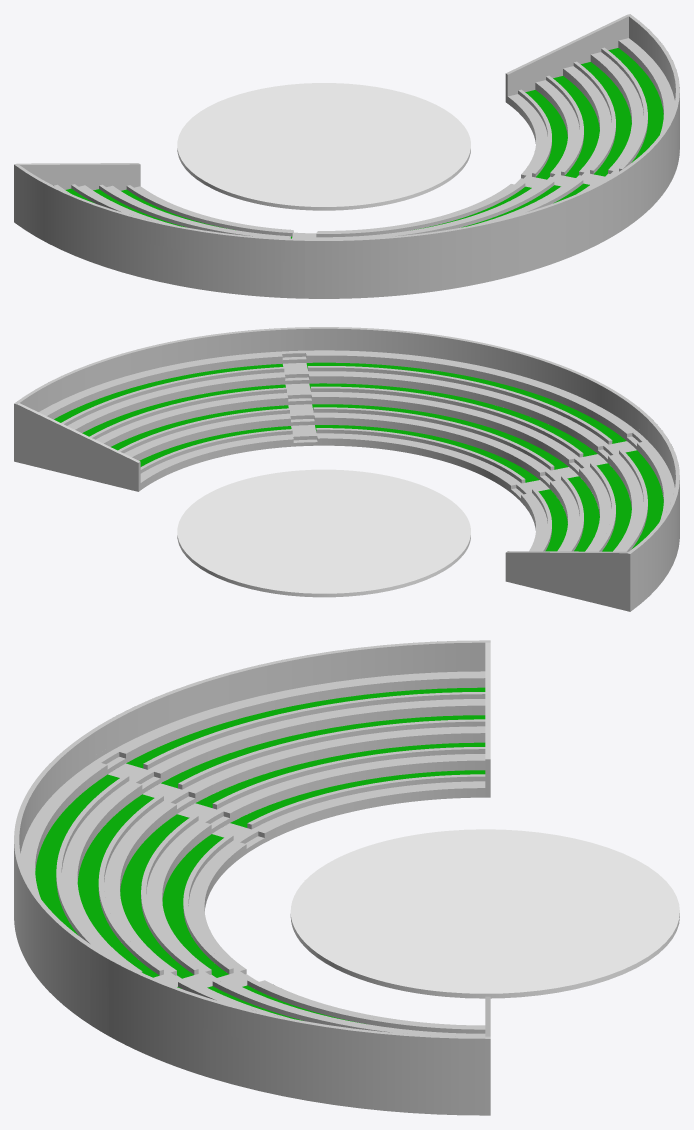
File: theater_centered.fbx
The picture shows the model from 3 angles, top to bottom: view 1: azimuth 30°, elevation 25°; view 2: azimuth 150°, elevation 25°; view 3: azimuth 270°, elevation 25°; orthographic projection. The views are drawn at different scales.
Visible parts, largest first — view 1: Object.8394, Object.8388, Object.8390, Object.8407, Object.8406, Object.8374, Object.8375, Object.8524, Object.8506, Object.8512, Object.8542, Object.8536 (+28 smaller); view 2: Object.8394, Object.8410, Object.8374, Object.8411, Object.8376, Object.8502, Object.8520, Object.8499, Object.8538, Object.8511, Object.8503, Object.8535 (+53 smaller); view 3: Object.8394, Object.8389, Object.8408, Object.8409, Object.8388, Object.8501, Object.8519, Object.8523, Object.8498, Object.8537, Object.8511, Object.8541 (+42 smaller).
Boxes of the visible parts, left/top/right/bottom form: Object.8394: left=177, top=83, right=470, bottom=210; Object.8388: left=305, top=181, right=641, bottom=298; Object.8390: left=16, top=188, right=281, bottom=297; Object.8407: left=305, top=159, right=641, bottom=262; Object.8406: left=16, top=166, right=281, bottom=261; Object.8374: left=505, top=15, right=628, bottom=103; Object.8375: left=20, top=164, right=140, bottom=190; Object.8524: left=581, top=62, right=631, bottom=176; Object.8506: left=608, top=48, right=663, bottom=162; Object.8512: left=591, top=52, right=643, bottom=171; Object.8542: left=553, top=76, right=599, bottom=177; Object.8536: left=563, top=66, right=611, bottom=173; Object.8394: left=177, top=469, right=470, bottom=597; Object.8410: left=305, top=328, right=637, bottom=431; Object.8374: left=17, top=403, right=140, bottom=491; Object.8411: left=20, top=329, right=281, bottom=411; Object.8376: left=505, top=551, right=628, bottom=610; Object.8502: left=306, top=355, right=626, bottom=440; Object.8520: left=309, top=376, right=597, bottom=453; Object.8499: left=305, top=350, right=637, bottom=433; Object.8538: left=312, top=397, right=568, bottom=466; Object.8511: left=308, top=371, right=608, bottom=446; Object.8503: left=47, top=356, right=282, bottom=419; Object.8535: left=311, top=392, right=579, bottom=459; Object.8394: left=290, top=829, right=679, bottom=998; Object.8389: left=108, top=988, right=485, bottom=1115; Object.8408: left=108, top=959, right=485, bottom=1067; Object.8409: left=113, top=642, right=485, bottom=749; Object.8388: left=14, top=873, right=90, bottom=1024; Object.8501: left=126, top=678, right=485, bottom=762; Object.8519: left=160, top=705, right=485, bottom=782; Object.8523: left=77, top=794, right=159, bottom=977; Object.8498: left=113, top=671, right=485, bottom=753; Object.8537: left=195, top=733, right=485, bottom=802; Object.8511: left=61, top=781, right=141, bottom=971; Object.8541: left=120, top=814, right=193, bottom=978.
Bounding box in the file's own units: 2715 × 244 × 1918.
